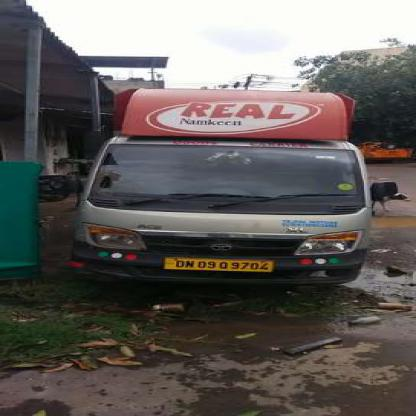license_plate: (161, 257, 272, 270)
